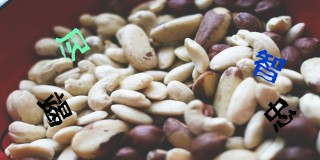尽: (55, 27, 89, 62)
忠: (262, 98, 298, 133)
智: (252, 49, 288, 85)
竭: (36, 90, 73, 127)
